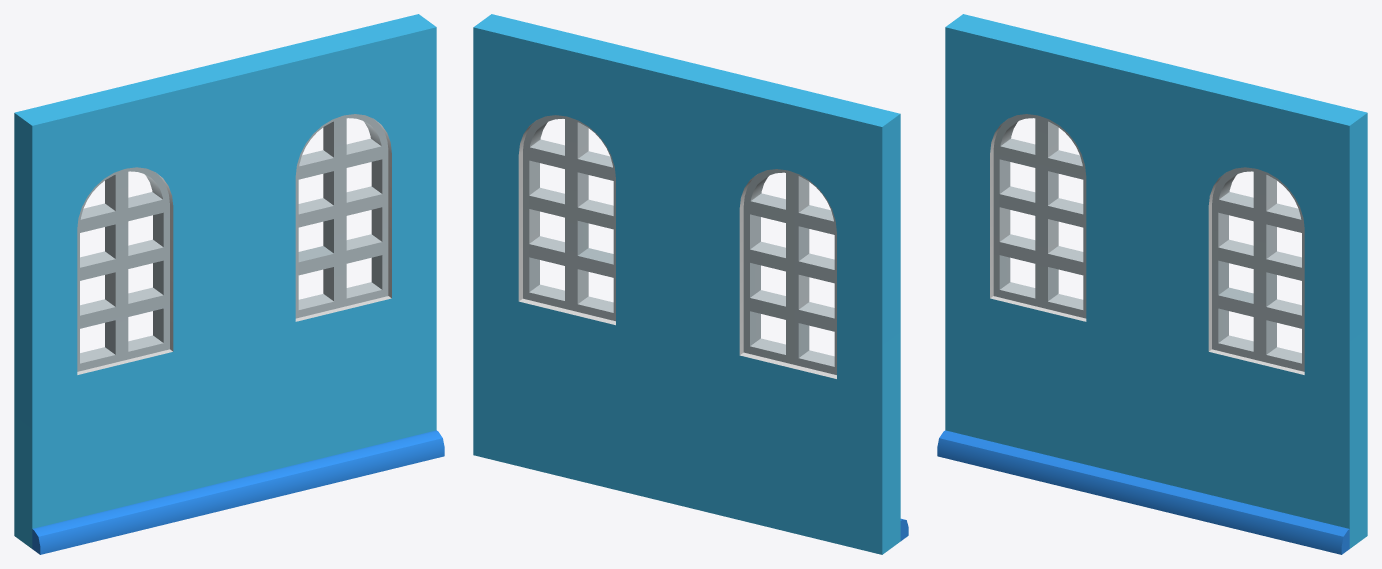
The model's file is B_Wall004.fbx.
3 renders of one model, left to right at view 1: azimuth 30°, elevation 25°; view 2: azimuth 150°, elevation 25°; view 3: azimuth 330°, elevation 25°, orthographic.
Visible parts, largest first — view 1: Wall004; view 2: Wall004; view 3: Wall004.
Boxes of the visible parts, x1,y1,x2,y2 form: Wall004: [14, 14, 444, 554]; Wall004: [473, 14, 908, 554]; Wall004: [937, 14, 1367, 554].
Bounding box in the file's own units: 250 × 250 × 27.87.
1 material, 1 textured.
